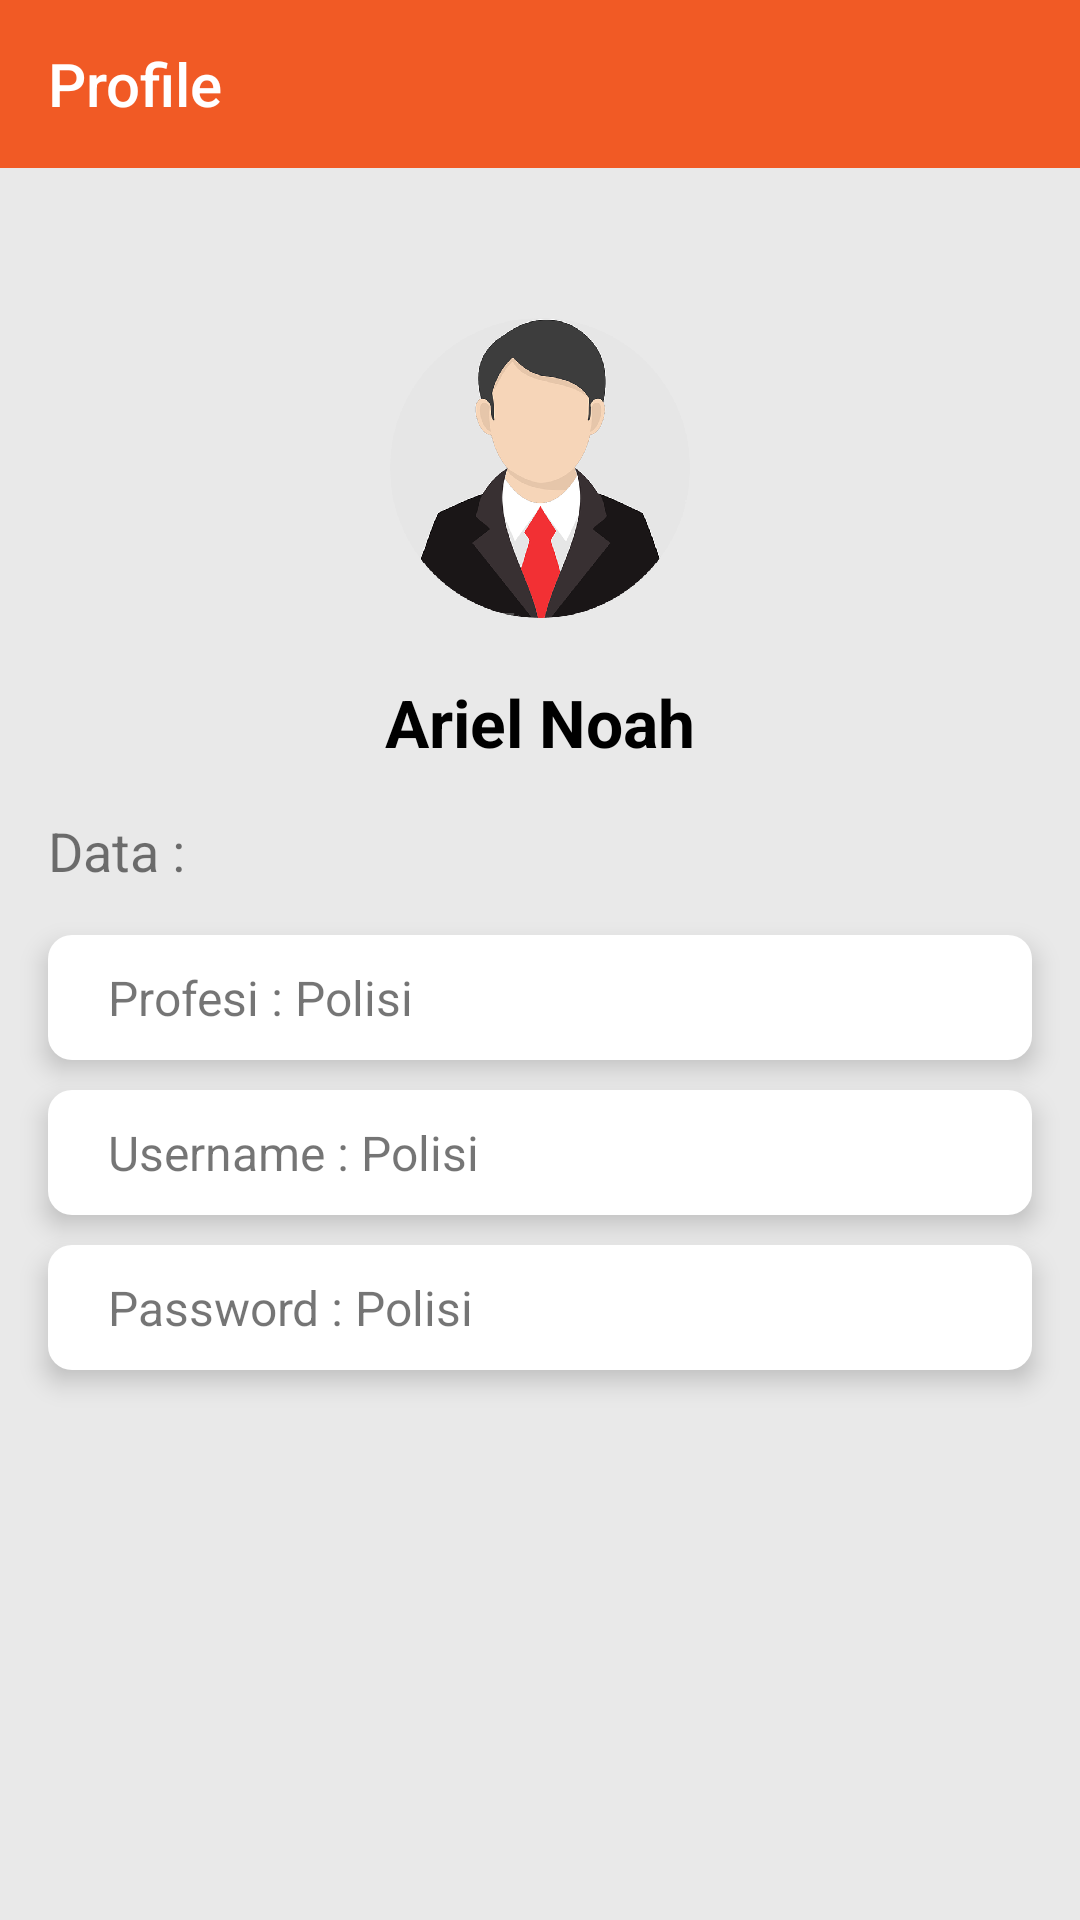

Icons on this 1080w x 1920h Android screen, each with the point to tap as (x,y):
person male: (540,469)
